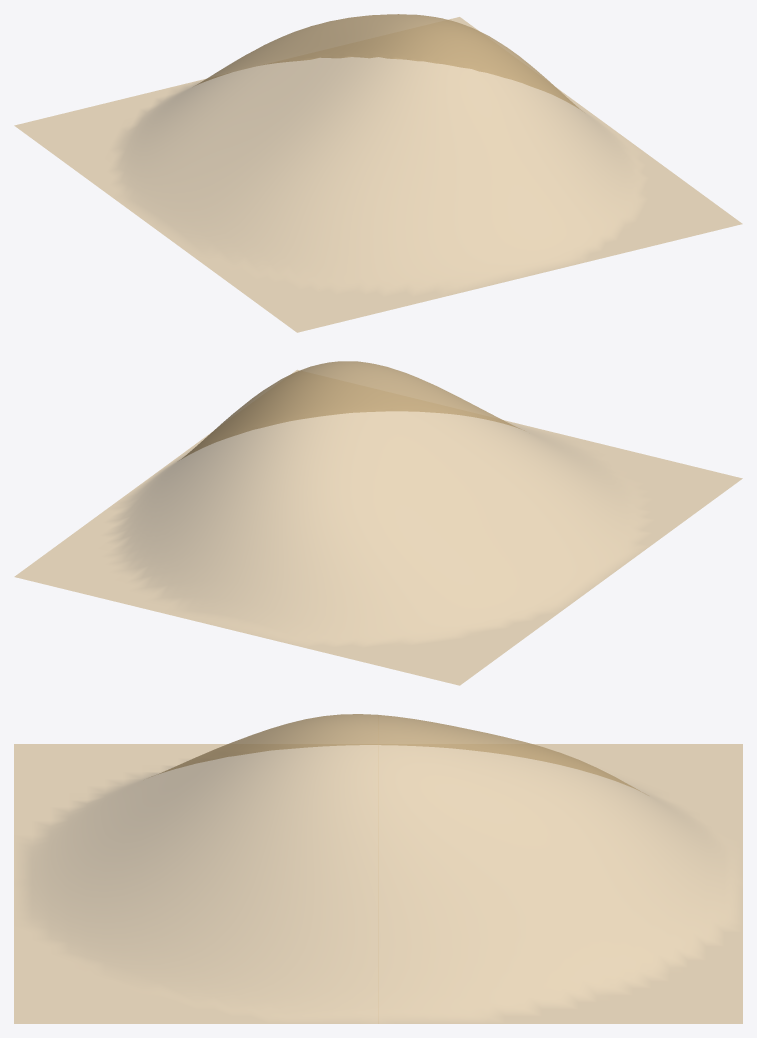
Rendered from thunder_dune.glb.
3 renders of one model, top to bottom at view 1: azimuth 30°, elevation 25°; view 2: azimuth 150°, elevation 25°; view 3: azimuth 270°, elevation 25°, orthographic. The views are drawn at different scales.
Visible parts, largest first — view 1: ThunderDune; view 2: ThunderDune; view 3: ThunderDune.
Part boxes in pixels (left/top/right/bottom): ThunderDune: left=14, top=14, right=742, bottom=332; ThunderDune: left=14, top=361, right=742, bottom=685; ThunderDune: left=14, top=714, right=742, bottom=1023.
Bounding box in the file's own units: 20 × 5.99 × 22.
